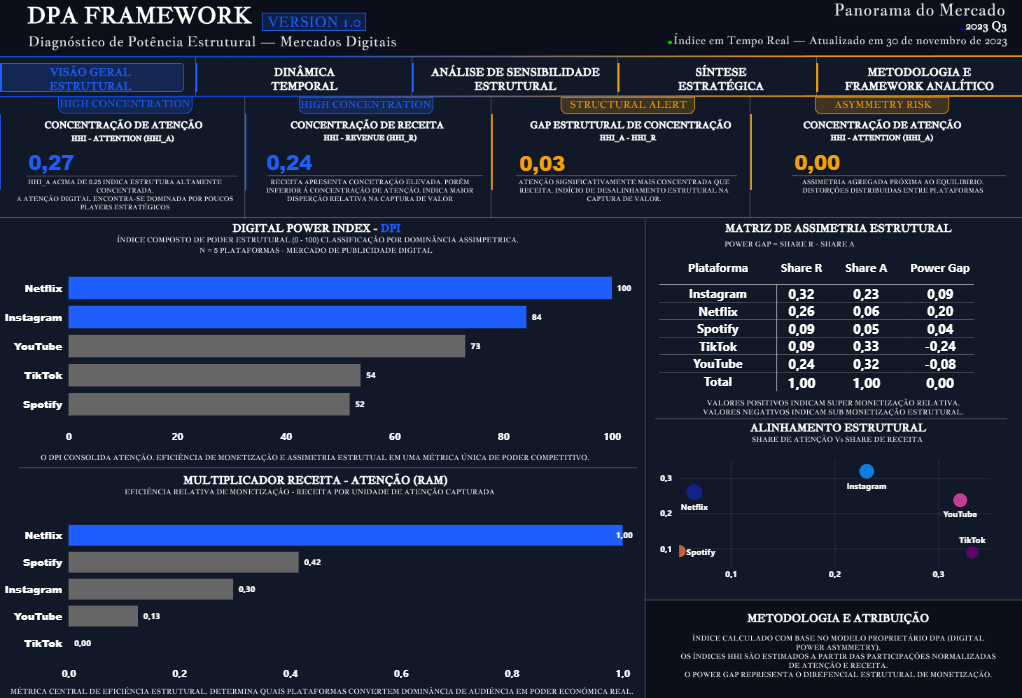

This screenshot's page, from the dashboard's own definition file:
{"tool":"powerbi","page":{"name":"Visão Geral Estrutural","canvas":[1460,1000],"ordinal":0},"visuals":[{"type":"cardVisual","title":"Concentração de Atenção (HHI_A)","fields":{"Data":["FATO_USUARIOS_TRIMESTRAL.HHI_A"]},"box":[11.4,194.3,141.4,74.3],"z":0},{"type":"cardVisual","title":"Concentração de Receita (HHI_R)","fields":{"Data":["FATO_USUARIOS_TRIMESTRAL.HHI_R"]},"box":[351.4,194.3,157.1,74.3],"z":1000},{"type":"cardVisual","title":"Gap Estrutural de Concentração","fields":{"Data":["FATO_USUARIOS_TRIMESTRAL.Gap Estrutural de Concentração"]},"box":[712.9,185.7,207.1,91.4],"z":2000},{"type":"cardVisual","title":"Gap Médio de Poder Estrutural","fields":{"Data":["FATO_USUARIOS_TRIMESTRAL.Gap Médio de Poder Estrutural"]},"box":[1105.7,194.3,232.9,74.3],"z":3000},{"type":"barChart","title":"Índice de Poder Digital (DPI™)","fields":{"Category":["DIM_PLATAFORMA.Plataforma"],"Y":["FATO_USUARIOS_TRIMESTRAL.DPI Score (0-100)"]},"box":[0,365.7,920,278.6],"z":4000},{"type":"pivotTable","title":"Assimetria Estrutural de Mercado","fields":{"Rows":["DIM_PLATAFORMA.Plataforma"],"Values":["FATO_USUARIOS_TRIMESTRAL.Share_R","FATO_USUARIOS_TRIMESTRAL.Share_A","FATO_USUARIOS_TRIMESTRAL.Power Gap"]},"box":[937.1,365.7,480,244.3],"z":5000},{"type":"barChart","title":"Assimetria Estrutural de Mercado","fields":{"Category":["DIM_PLATAFORMA.Plataforma"],"Y":["FATO_USUARIOS_TRIMESTRAL.RAM_Normalizado"]},"box":[0,721.4,920,261.4],"z":6000},{"type":"scatterChart","fields":{"Series":["DIM_PLATAFORMA.Plataforma"],"X":["FATO_USUARIOS_TRIMESTRAL.Share_A"],"Y":["FATO_USUARIOS_TRIMESTRAL.Share_R"],"Size":["FATO_USUARIOS_TRIMESTRAL.DPI Score"]},"box":[937.1,644.3,491.4,194.3],"z":7000},{"type":"pageNavigator","box":[0,87.5,1460,45],"z":8000}]}

Visuals, with their boxes in screenshot pixels (x1, y1, x2, y2), scaled from the page's 1460x1000 canvas onto the 1022x698 screenshot:
"Concentração de Atenção (HHI_A)" cardVisual: 8/136/107/187
"Concentração de Receita (HHI_R)" cardVisual: 246/136/356/187
"Gap Estrutural de Concentração" cardVisual: 499/130/644/193
"Gap Médio de Poder Estrutural" cardVisual: 774/136/937/187
"Índice de Poder Digital (DPI™)" barChart: 0/255/644/450
"Assimetria Estrutural de Mercado" pivotTable: 656/255/992/426
"Assimetria Estrutural de Mercado" barChart: 0/504/644/686
scatterChart - DIM_PLATAFORMA.Plataforma x FATO_USUARIOS_TRIMESTRAL.Share_A: 656/450/1000/585
pageNavigator: 0/61/1021/92
